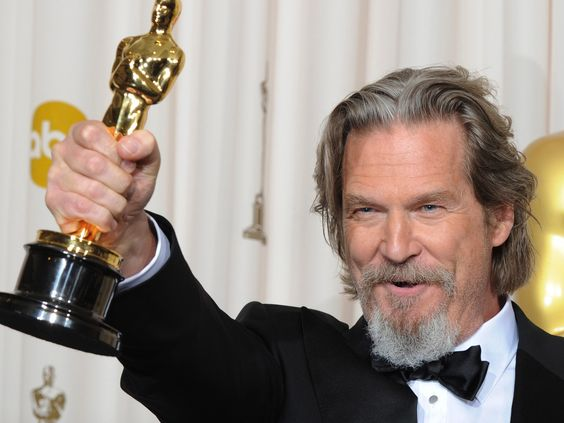hand: (52, 123, 152, 229)
